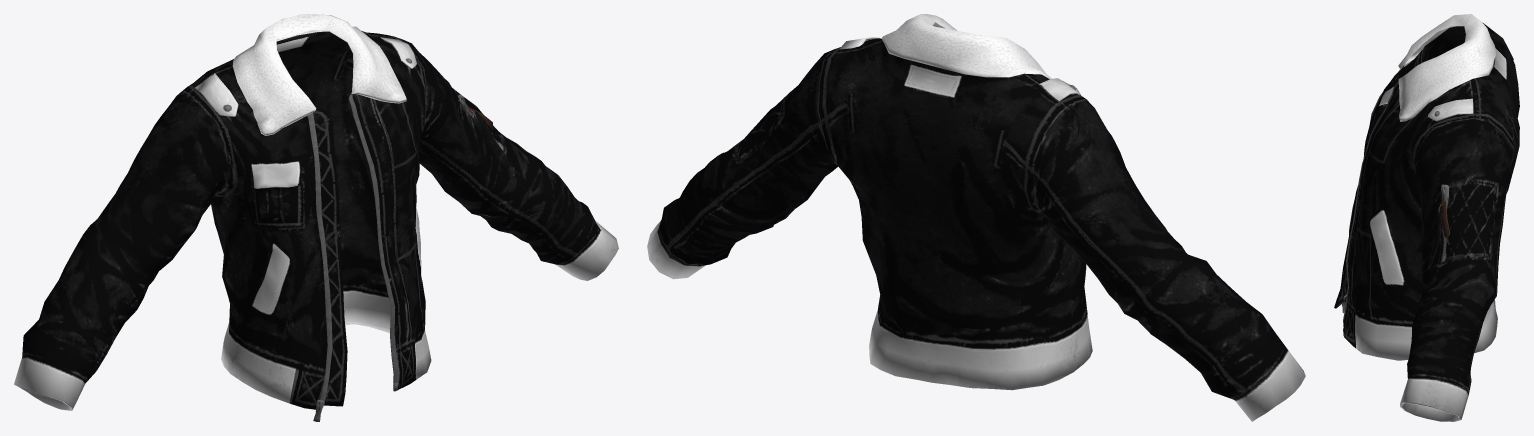
The model's file is SurvivorMale_Chest_Jacket_Bomber_LOD0.glb.
3 renders of one model, left to right at view 1: azimuth 30°, elevation 25°; view 2: azimuth 150°, elevation 25°; view 3: azimuth 270°, elevation 25°, orthographic. The views are drawn at different scales.
Parts seen in each view (by area): view 1: Hoodie; view 2: Hoodie; view 3: Hoodie.
Boxes of the visible parts, box(x1,y1,x2,y2) form: Hoodie: box(14, 14, 618, 421); Hoodie: box(647, 14, 1305, 421); Hoodie: box(1334, 14, 1519, 421).
Bounding box in the file's own units: 1.17 × 0.6398 × 0.3499.
1 material, 1 textured.
